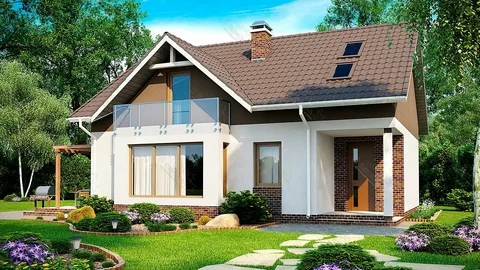private_hause: (80, 27, 428, 220)
